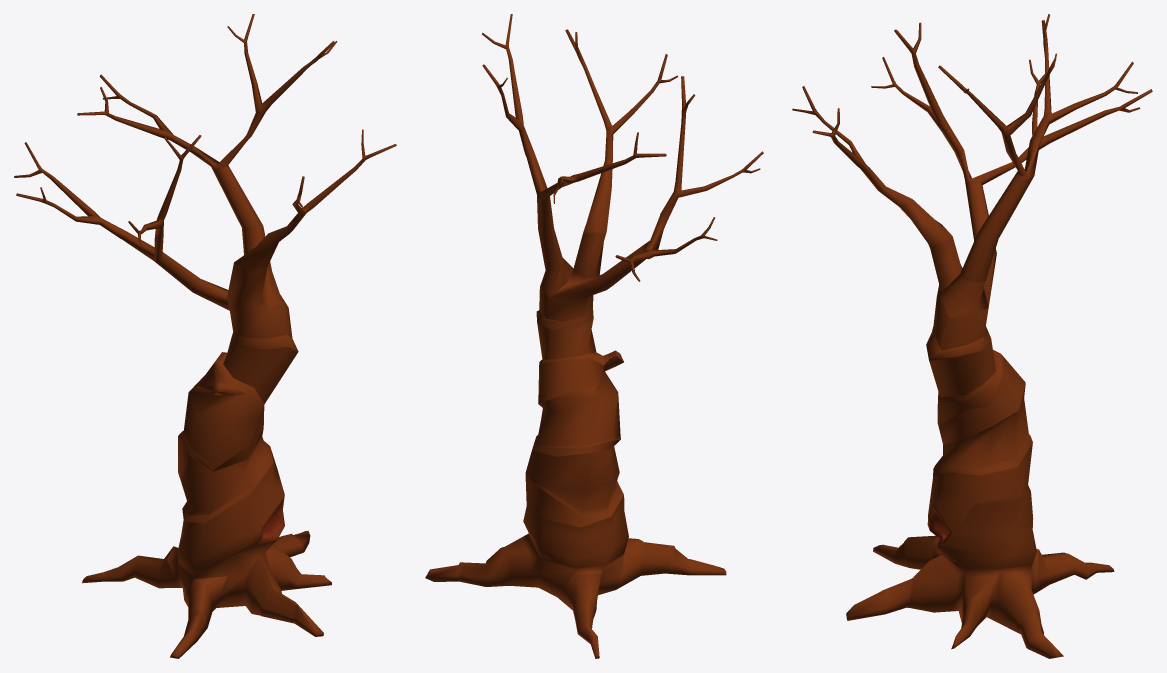
File: HWN20_Tree_02.glb
3 views of the same model, side by side, from view 1: azimuth 30°, elevation 25°; view 2: azimuth 150°, elevation 25°; view 3: azimuth 270°, elevation 25° (orthographic). The views are drawn at different scales.
Parts seen in each view (by area): view 1: HWN20_Tree_02; view 2: HWN20_Tree_02; view 3: HWN20_Tree_02.
Part boxes in pixels (left/top/right/bottom): HWN20_Tree_02: left=14, top=14, right=396, bottom=658; HWN20_Tree_02: left=425, top=14, right=763, bottom=658; HWN20_Tree_02: left=792, top=14, right=1152, bottom=658.
Size of what is drawn, in the model's own units: 2.72 by 4.92 by 2.71.
Materials: 1 (1 with a texture image).
